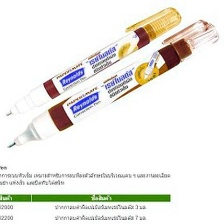correction_fluid: (5, 17, 221, 149), (3, 6, 183, 118)
